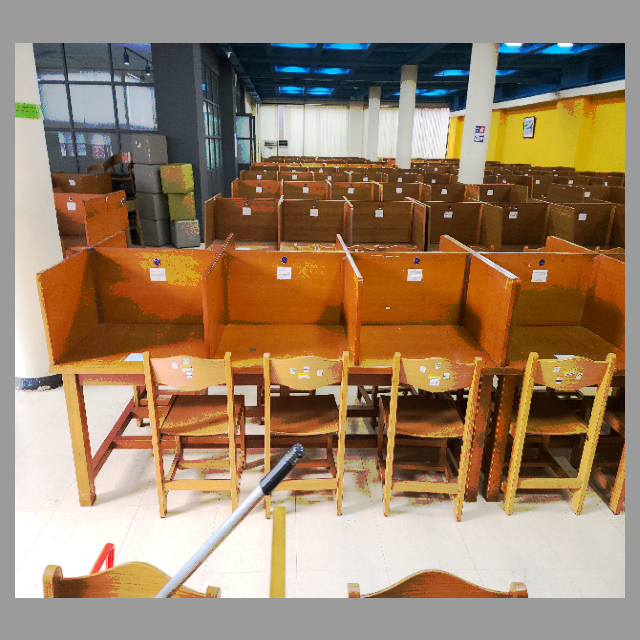empty: (365, 240, 511, 441), (46, 239, 208, 420), (211, 244, 357, 433)
